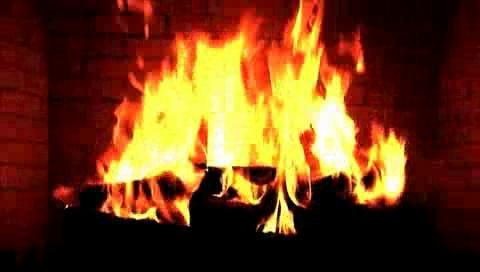fire: (93, 35, 400, 228)
